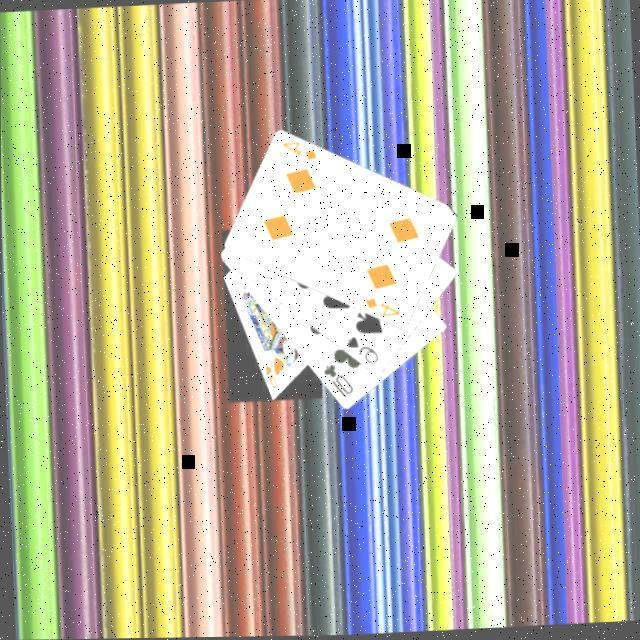10C: (317, 358, 354, 401)
4D: (360, 292, 401, 320), (277, 136, 319, 163)
9S: (340, 331, 380, 366)
